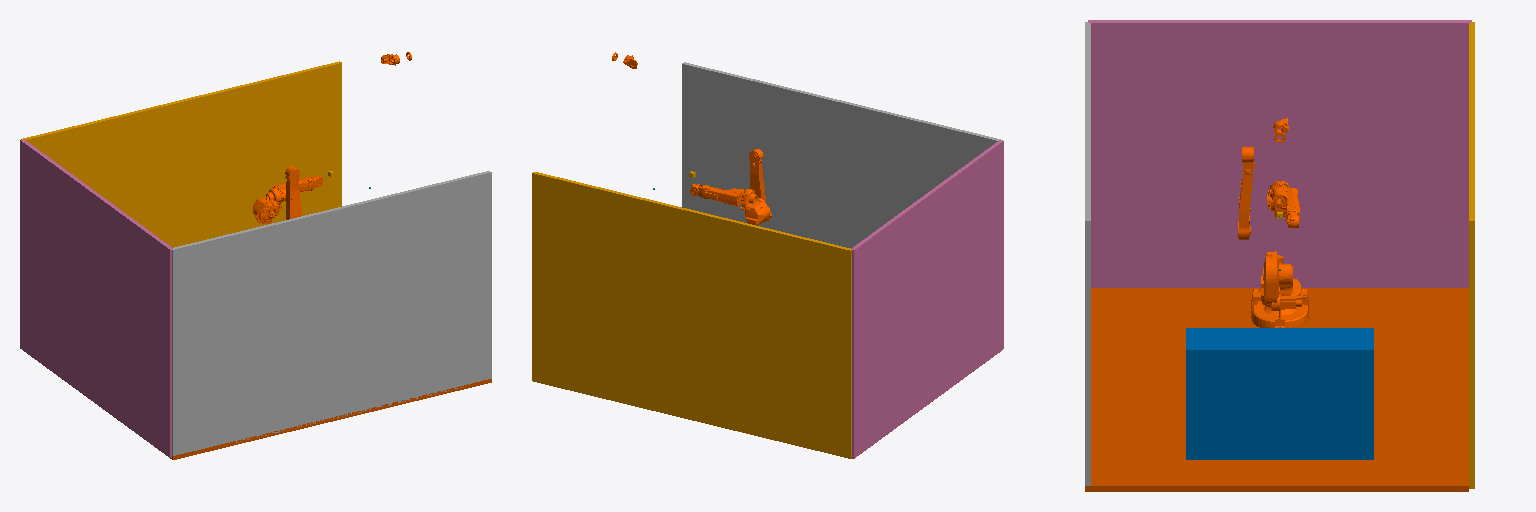
robot.urdf — irb1660_6_155:
<?xml version="1.0" ?>
<robot name="irb1660_6_155" xmlns:xacro="http://ros.org/wiki/xacro">
  <!-- robot link list -->
  <link name="base_link">
    <visual>
      <origin rpy="0 0 0" xyz="0 0 0" />
      <geometry>
        <mesh filename="package://abb_irb1660_support/meshes/base_link.stl" />
      </geometry>
      <material name="abb_orange">
        <color rgba="1 0.43 0 1" />
      </material>
    </visual>
    <collision>
      <geometry>
        <mesh filename="package://abb_irb1660_support/meshes/base_link.stl" />
      </geometry>
      <material name="yellow">
        <color rgba="0 1 1 1" />
      </material>
    </collision>
  </link>
  <link name="link_1">
    <visual>
      <origin rpy="0 0 0" xyz="0 0 0" />
      <geometry>
        <mesh filename="package://abb_irb1660_support/meshes/link_1.stl" />
      </geometry>
      <material name="abb_orange" />
    </visual>
    <collision>
      <origin rpy="0 0 0" xyz="0 0 0" />
      <geometry>
        <mesh filename="package://abb_irb1660_support/meshes/link_1.stl" />
      </geometry>
      <material name="yellow" />
    </collision>
  </link>
  <link name="link_2">
    <visual>
      <origin rpy="0 0 0" xyz="0 0 0" />
      <geometry>
        <mesh filename="package://abb_irb1660_support/meshes/link_2.stl" />
      </geometry>
      <material name="abb_orange" />
    </visual>
    <collision>
      <origin rpy="0 0 0" xyz="0 0 0" />
      <geometry>
        <mesh filename="package://abb_irb1660_support/meshes/link_2.stl" />
      </geometry>
      <material name="yellow" />
    </collision>
  </link>
  <link name="link_3">
    <visual>
      <origin rpy="0 0 0" xyz="0 0 0" />
      <geometry>
        <mesh filename="package://abb_irb1660_support/meshes/link_3.stl" />
      </geometry>
      <material name="abb_orange" />
    </visual>
    <collision>
      <origin rpy="0 0 0" xyz="0 0 0" />
      <geometry>
        <mesh filename="package://abb_irb1660_support/meshes/link_3.stl" />
      </geometry>
      <material name="yellow" />
    </collision>
  </link>
  <link name="link_4">
    <visual>
      <origin rpy="0 0 0" xyz="0 0 0" />
      <geometry>
        <mesh filename="package://abb_irb1660_support/meshes/link_4.stl" />
      </geometry>
      <material name="abb_orange" />
    </visual>
    <collision>
      <origin rpy="0 0 0" xyz="0 0 0" />
      <geometry>
        <mesh filename="package://abb_irb1660_support/meshes/link_4.stl" />
      </geometry>
      <material name="yellow" />
    </collision>
  </link>
  <link name="link_5">
    <visual>
      <origin rpy="0 0 0" xyz="0 0 0" />
      <geometry>
        <mesh filename="package://abb_irb1660_support/meshes/link_5.stl" />
      </geometry>
      <material name="abb_orange" />
    </visual>
    <collision>
      <origin rpy="0 0 0" xyz="0 0 0" />
      <geometry>
        <mesh filename="package://abb_irb1660_support/meshes/link_5.stl" />
      </geometry>
      <material name="yellow" />
    </collision>
  </link>
  <link name="link_6">
    <visual>
      <origin rpy="0 0 0" xyz="0 0 0" />
      <geometry>
        <mesh filename="package://abb_irb1660_support/meshes/link_6.stl" />
      </geometry>
      <material name="abb_orange" />
    </visual>
    <collision>
      <origin rpy="0 0 0" xyz="0 0 0" />
      <geometry>
        <mesh filename="package://abb_irb1660_support/meshes/link_6.stl" />
      </geometry>
      <material name="yellow" />
    </collision>
  </link>
  <!-- tool link list -->
  <link name="tool0">
    <visual>
      <origin rpy="0 0 0" xyz="0 0 0" />
      <geometry>
        <mesh filename="package://abb_irb1660_support/meshes/tools/tool_sks_FP8i-L.stl" />
      </geometry>
      <material name="abb_orange" />
    </visual>
    <collision>
      <origin rpy="0 0 0" xyz="0 0 0" />
      <geometry>
        <mesh filename="package://abb_irb1660_support/meshes/tools/tool_sks_FP8i-L.stl" />
      </geometry>
      <material name="yellow" />
    </collision>
  </link>
  <!-- camera link list -->
  <link name="camera_link">
    <visual>
      <origin rpy="0 0 0" xyz="0 0 0" />
      <geometry>
        <box size="0.05 0.05 0.05" />
      </geometry>
    </visual>
    <material name="Cyan">
      <color rgba="0 1.0 0 1.0" />
    </material>
  </link>
  <link name="camera_optical_frame">
    <visual>
      <origin rpy="0 0 0" xyz="0.0 0.0 0" />
      <geometry>
        <sphere radius="0.005" />
      </geometry>
    </visual>
  </link>
  <link name="led_link">
    <visual>
      <origin rpy="0 0 0" xyz="0 0 -0.050" />
      <geometry>
        <sphere radius="0.01" />
      </geometry>
    </visual>
  </link>
  <!-- end of link list -->
  <!-- robot joint list -->
  <joint name="joint_1" type="revolute">
    <origin rpy="0 0 0" xyz="0 0 0.124" />
    <parent link="base_link" />
    <child link="link_1" />
    <axis xyz="0 0 1" />
    <limit effort="0" lower="-3.14159" upper="3.14159" velocity="3.14159" />
    <calibration rising="-0.112819" />
  </joint>
  <joint name="joint_2" type="revolute">
    <origin rpy="0 0 0" xyz="0.15 -0.107 0.3625" />
    <parent link="link_1" />
    <child link="link_2" />
    <axis xyz="0 1 0" />
    <limit effort="0" lower="-1.5708" upper="2.61799" velocity="3.14159" />
    <calibration rising="-0.01114" />
  </joint>
  <joint name="joint_3" type="revolute">
    <origin rpy="0 0 0" xyz="0 0 0.7" />
    <parent link="link_2" />
    <child link="link_3" />
    <axis xyz="0 1 0" />
    <limit effort="0" lower="-4.15388" upper="1.37881" velocity="3.14159" />
    <calibration rising="-0.01114" />
  </joint>
  <joint name="joint_4" type="revolute">
    <origin rpy="0 0 0" xyz="0.128 0.107 0.108" />
    <parent link="link_3" />
    <child link="link_4" />
    <axis xyz="1 0 0" />
    <limit effort="0" lower="-3.05433" upper="3.05433" velocity="5.58505" />
    <calibration rising="0.0899604" />
  </joint>
  <joint name="joint_5" type="revolute">
    <origin rpy="0 0 0" xyz="0.55 0 0" />
    <parent link="link_4" />
    <child link="link_5" />
    <axis xyz="0 1 0" />
    <limit effort="0" lower="-2.0944" upper="2.0944" velocity="6.28319" />
    <calibration rising="-0.0123815" />
  </joint>
  <joint name="joint_6" type="revolute">
    <origin rpy="0.0 0 0" xyz="0.135 0 0" />
    <parent link="link_5" />
    <child link="link_6" />
    <axis xyz="1 0 0" />
    <limit effort="0" lower="-6.98132" upper="6.98132" velocity="8.72665" />
    <calibration rising="0" />
  </joint>
  <!-- tool joint list -->
  <joint name="joint_6-tool0" type="fixed">
    <parent link="link_6" />
    <child link="tool0" />
    <origin rpy="0 0 0" xyz="0 0 0" />
  </joint>
  <!-- camera joint list -->
  <joint name="camera_joint" type="fixed">
    <origin rpy="0 0 0" xyz="0.115 0 0.112" />
    <parent link="link_5" />
    <child link="camera_link" />
  </joint>
  <joint name="camera_optical_joint" type="fixed">
    <origin rpy="0 0 0" xyz="0.025 0 0" />
    <parent link="camera_link" />
    <child link="camera_optical_frame" />
  </joint>
  <joint name="led_joint" type="fixed">
    <origin rpy="0 0 0" xyz="0.463 0.0 -0.120" />
    <parent link="tool0" />
    <child link="led_link" />
  </joint>
  <!-- end of joint list -->
  <!-- object placement -->
  <!-- object link list -->
  <link name="front_of_cel_link" />
  <link name="external_axis_object">
    <visual>
      <origin rpy="0 0 0" xyz="0 0 0.525" />
      <geometry>
        <box size="0.45 1.60 1.05" />
      </geometry>
    </visual>
    <material name="Blue">
      <color rgba="0 0 1.0 1.0" />
    </material>
    <collision>
      <origin rpy="0 0 0" xyz="0 0 0.525" />
      <geometry>
        <box size="0.45 1.60 1.05" />
      </geometry>
      <material name="Blue" />
    </collision>
  </link>
  <link name="ground_object">
    <visual>
      <origin rpy="1.5708 0 0" xyz="0 -0.025 0" />
      <geometry>
        <box size="4 0.05 3.25" />
      </geometry>
    </visual>
    <material name="Cyan">
      <color rgba="0 255 0 0.3" />
    </material>
    <collision>
      <origin rpy="1.5708  0 0" xyz="0 -0.025 0" />
      <geometry>
        <box size="4 0.05 3.25" />
      </geometry>
      <material name="Cyan">
        <color rgba="0 255 0 0.3" />
      </material>
    </collision>
  </link>
  <link name="wall_back_object">
    <visual>
      <origin rpy="0 0 1.5708" xyz="0 0 1.25" />
      <geometry>
        <box size="3.25 0.05 2.5" />
      </geometry>
    </visual>
    <material name="Cyan">
      <color rgba="0 255 0 0.3" />
    </material>
    <collision>
      <origin rpy="0 0 1.5708" xyz="0 0 1.25" />
      <geometry>
        <box size="3.25 0.05 2.5" />
      </geometry>
      <material name="Cyan">
        <color rgba="0 255 0 0.3" />
      </material>
    </collision>
  </link>
  <link name="wall_left_object">
    <visual>
      <origin rpy="0 0 0" xyz="-2 0 1.25" />
      <geometry>
        <box size="4 0.05 2.5" />
      </geometry>
    </visual>
    <material name="Cyan">
      <color rgba="0 255 0 0.3" />
    </material>
    <collision>
      <origin rpy="0 0 0" xyz="-2 0 1.25" />
      <geometry>
        <box size="4 0.05 2.5" />
      </geometry>
      <material name="Cyan">
        <color rgba="0 255 0 0.3" />
      </material>
    </collision>
  </link>
  <link name="wall_right_object">
    <visual>
      <origin rpy="0 0 0" xyz="-2 0 1.25" />
      <geometry>
        <box size="4 0.05 2.5" />
      </geometry>
    </visual>
    <material name="Cyan">
      <color rgba="0 255 0 0.3" />
    </material>
    <collision>
      <origin rpy="0 0 0" xyz="-2 0 1.25" />
      <geometry>
        <box size="4 0.05 2.5" />
      </geometry>
      <material name="Cyan">
        <color rgba="0 255 0 0.3" />
      </material>
    </collision>
  </link>
  <!--object joint list -->
  <joint name="front_of_cel_joint" type="fixed">
    <origin rpy="0 0 0" xyz="2 0 -0.655" />
    <parent link="base_link" />
    <child link="front_of_cel_link" />
  </joint>
  <joint name="external_axis_joint" type="fixed">
    <origin rpy="0 0 0" xyz="-0.75 0 0" />
    <parent link="front_of_cel_link" />
    <child link="external_axis_object" />
  </joint>
  <joint name="ground_joint" type="fixed">
    <origin rpy="0 0 0" xyz="-2 0 0" />
    <parent link="front_of_cel_link" />
    <child link="ground_object" />
  </joint>
  <joint name="front_to_back_wall_joint" type="fixed">
    <origin rpy="0 0 0" xyz="-4 0 0" />
    <parent link="front_of_cel_link" />
    <child link="wall_back_object" />
  </joint>
  <joint name="front_to_left_wall_joint" type="fixed">
    <origin rpy="0 0 0" xyz="0 -1.625 0" />
    <parent link="front_of_cel_link" />
    <child link="wall_left_object" />
  </joint>
  <joint name="front_to_right_wall_joint" type="fixed">
    <origin rpy="0 0 0" xyz="0 1.625 0" />
    <parent link="front_of_cel_link" />
    <child link="wall_right_object" />
  </joint>
  <!--end of object placement -->
</robot>

--- Render facts (derived) ---
Views: 3 orthographic renders of the robot side by side, from view 1: azimuth 30°, elevation 25°; view 2: azimuth 150°, elevation 25°; view 3: azimuth 270°, elevation 25°.
Robot: irb1660_6_155 — 17 links, 16 joints (6 revolute, 10 fixed); root link base_link; default pose: all joints at 0.
Visible links, largest first — view 1: wall_left_object, wall_right_object, wall_back_object, ground_object, link_3, link_2; view 2: wall_right_object, wall_left_object, wall_back_object, link_3, link_4, link_2; view 3: wall_back_object, ground_object, external_axis_object, wall_right_object, wall_left_object, link_1, base_link, link_2, link_4.
Link boxes in pixels (x1=…): wall_left_object: x1=172, y1=171, x2=491, y2=455; wall_right_object: x1=21, y1=61, x2=341, y2=247; wall_back_object: x1=20, y1=139, x2=172, y2=457; ground_object: x1=28, y1=354, x2=491, y2=459; link_3: x1=253, y1=188, x2=283, y2=223; link_2: x1=285, y1=166, x2=301, y2=219; wall_right_object: x1=532, y1=172, x2=851, y2=458; wall_left_object: x1=682, y1=62, x2=1002, y2=248; wall_back_object: x1=852, y1=141, x2=1003, y2=458; link_3: x1=740, y1=189, x2=771, y2=225; link_4: x1=690, y1=183, x2=743, y2=206; link_2: x1=749, y1=149, x2=765, y2=201; wall_back_object: x1=1088, y1=20, x2=1471, y2=287; ground_object: x1=1085, y1=288, x2=1468, y2=491; external_axis_object: x1=1186, y1=328, x2=1373, y2=459; wall_right_object: x1=1469, y1=22, x2=1474, y2=488; wall_left_object: x1=1085, y1=22, x2=1090, y2=485; link_1: x1=1261, y1=251, x2=1302, y2=310; base_link: x1=1251, y1=289, x2=1308, y2=327; link_2: x1=1238, y1=147, x2=1254, y2=239; link_4: x1=1270, y1=187, x2=1299, y2=228.
Bounding box of the posed robot: 4.03 × 3.3 × 3.33 m (x, y, z).
7 mesh visuals loaded from 8 distinct referenced files (4 binary STL, 3 ASCII STL); not drawn: 1 (reference not matched to a file when rendering).